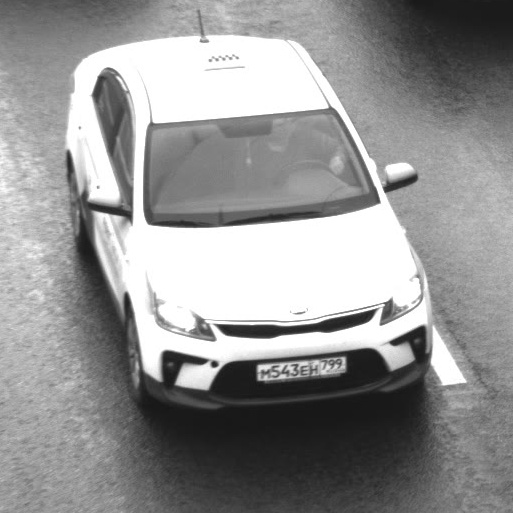plate: (245, 347, 356, 389)
